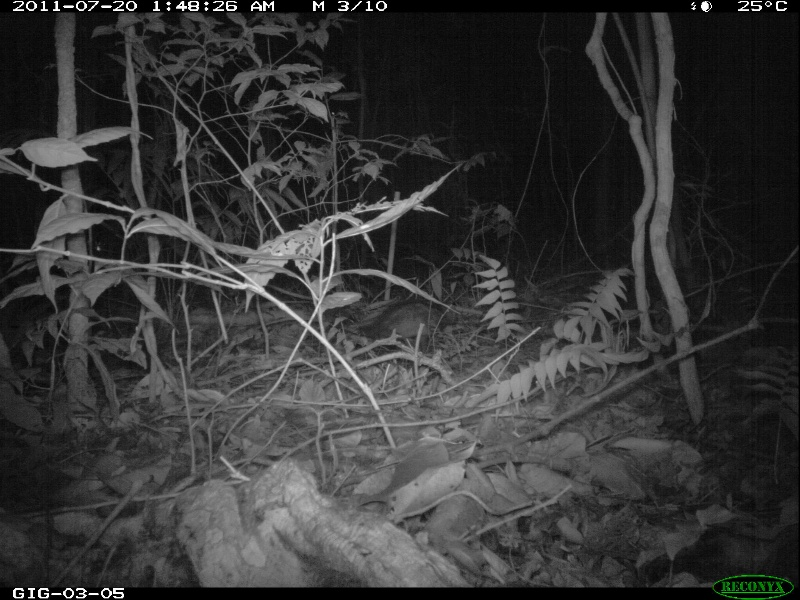opossum: (219, 289, 457, 341)
